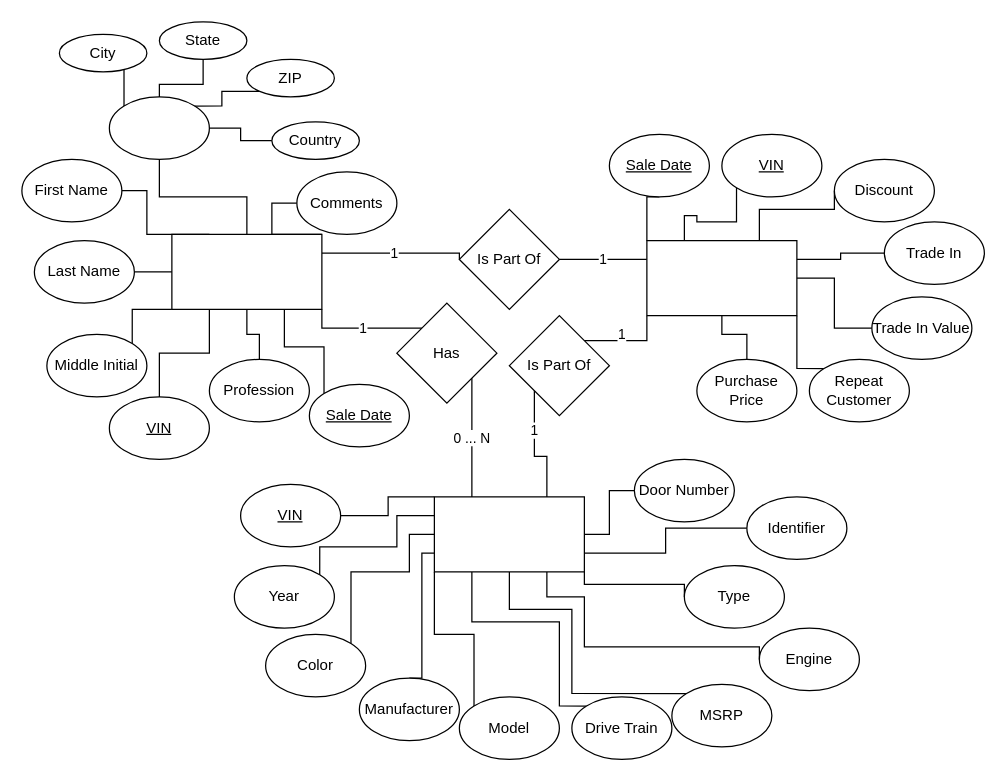
The diagram is 1006 pixels wide and 781 high, and some of its shapes have lost their labels. Here are the shapes that lost their labels. From the top down, the centre of each, then its label:
the point at 158,127: Address
the point at 246,271: Customer
the point at 721,277: Sale
the point at 508,534: Vehicle
